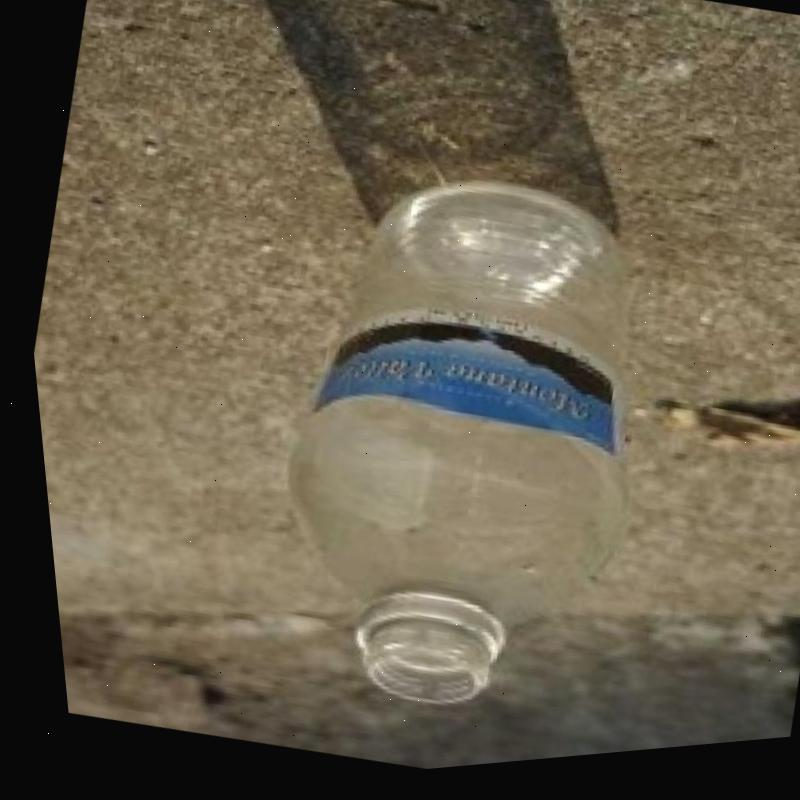botella: (200, 140, 704, 762)
